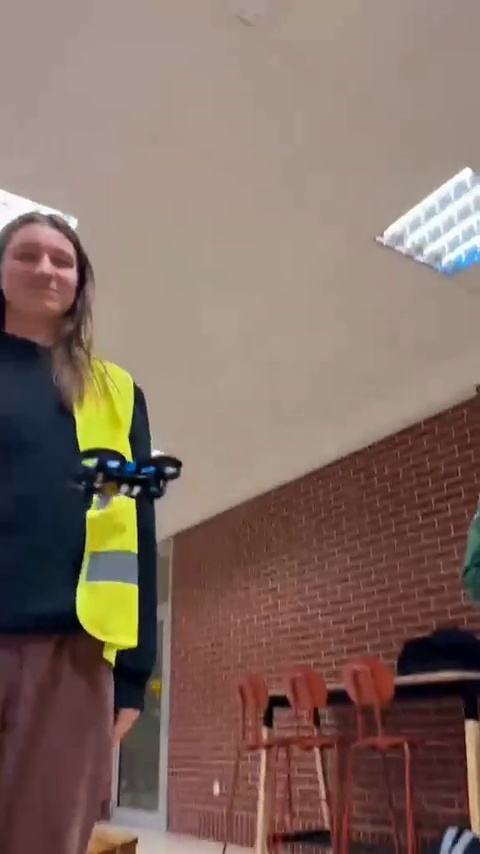drone: (71, 449, 186, 517)
vest: (0, 216, 158, 832)
